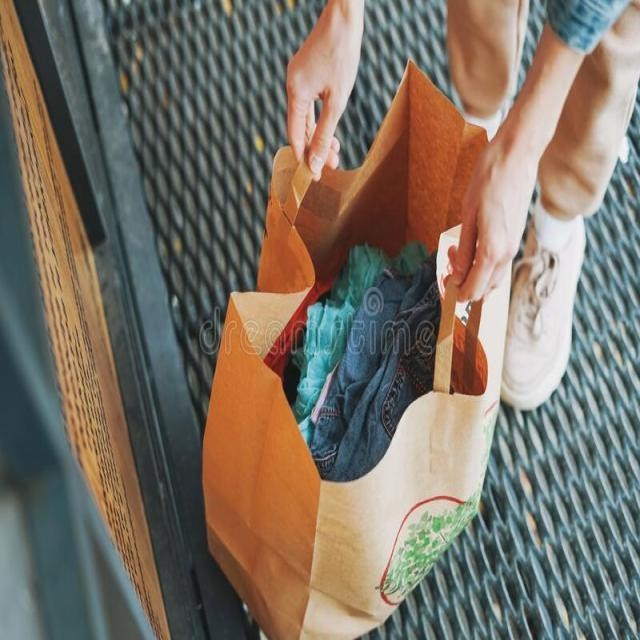clothes: (311, 255, 432, 445)
